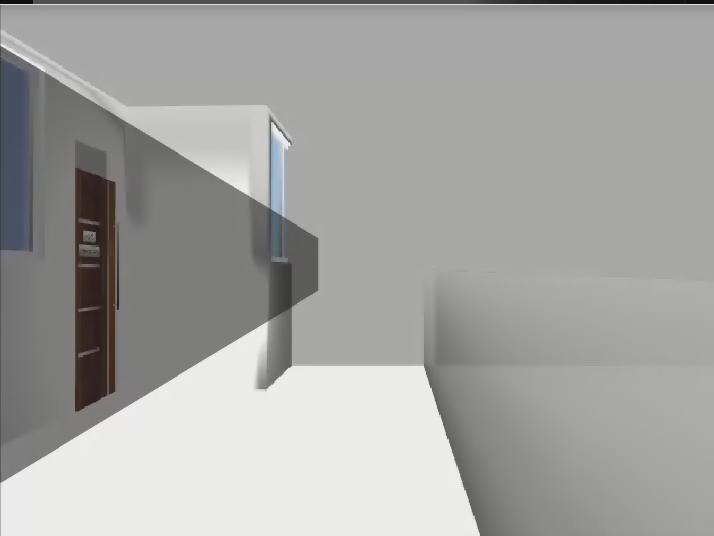door: (75, 168, 119, 411)
